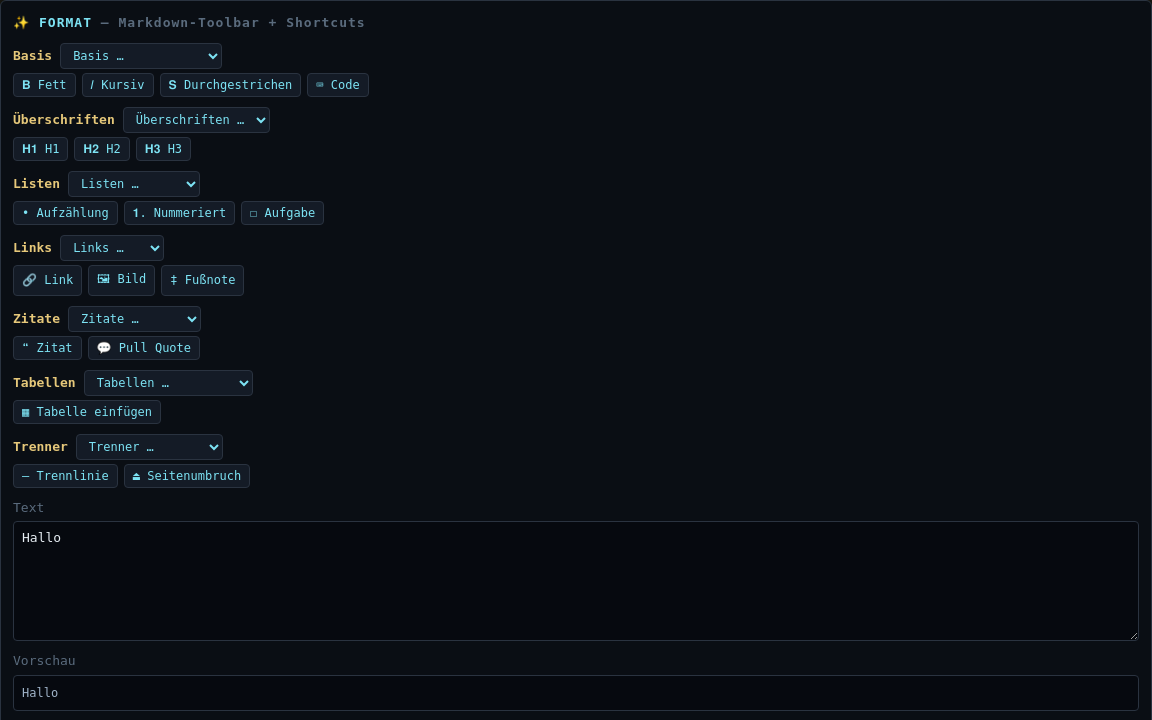
Test: FormattingPanel › rendert Format-Buttons und wendet Bold auf den Text an
The image size is (1152, 720).
Click the button "𝐁 Fett". click: (44, 84)
box: [13,72,76,96]
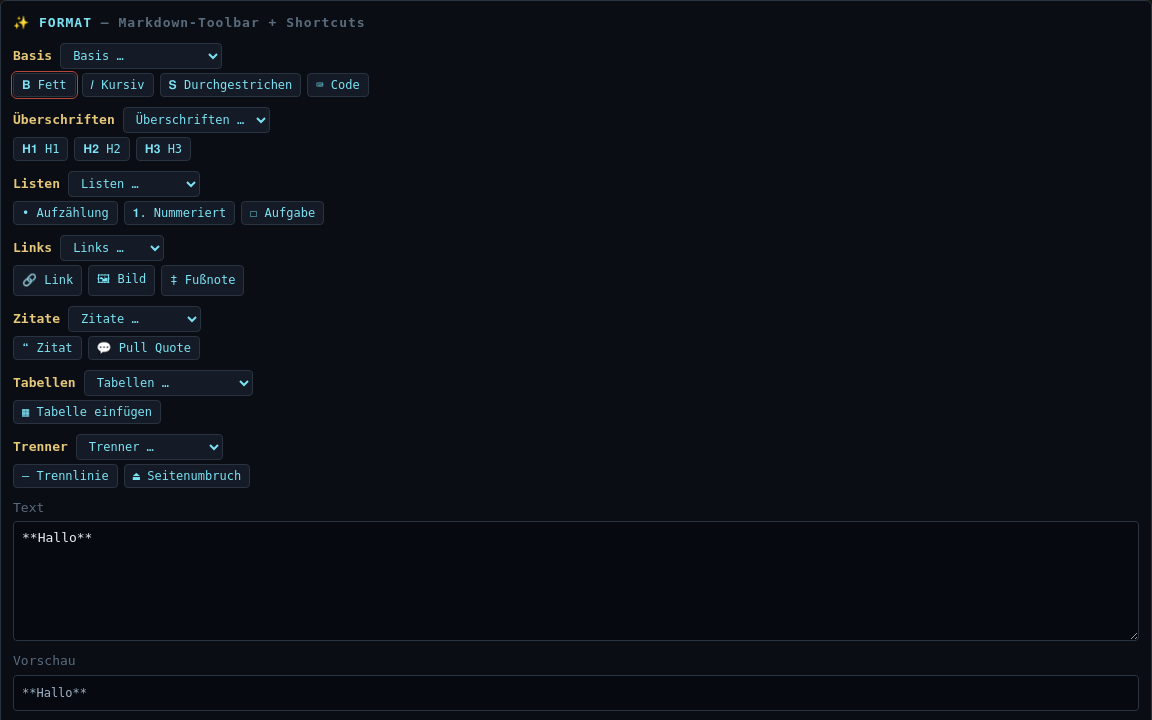
Now the text with test id "formatting-preview" reads "**Hallo**", box [22,686,87,700]
